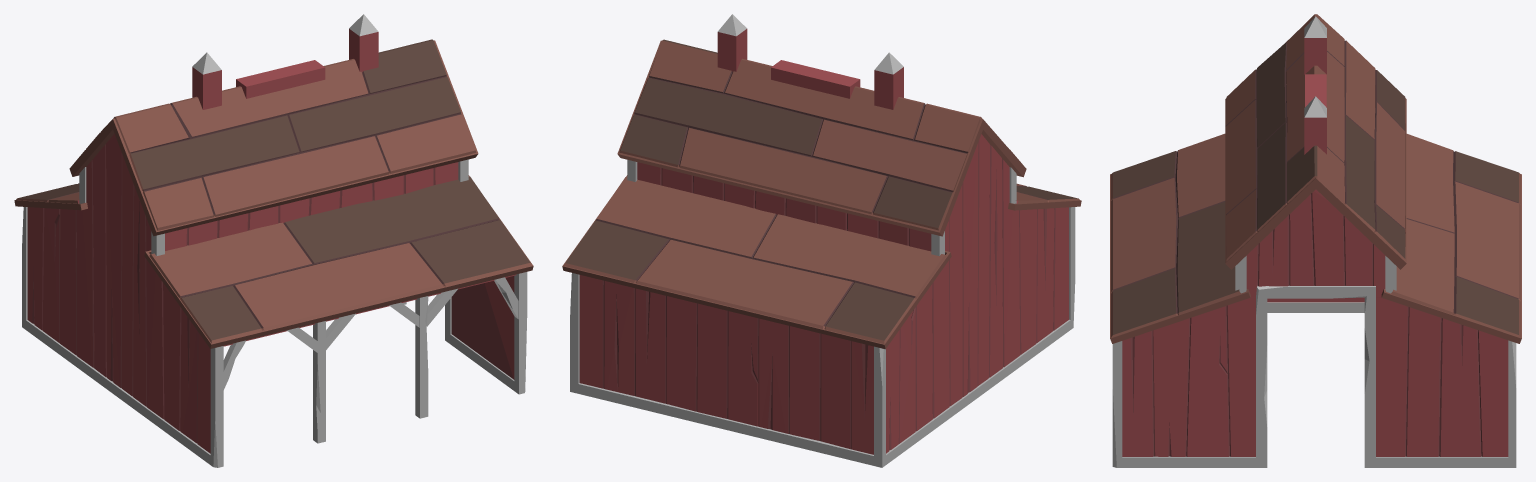
Rendered from Shed_3.fbx.
3 renders of one model, left to right at view 1: azimuth 30°, elevation 25°; view 2: azimuth 150°, elevation 25°; view 3: azimuth 270°, elevation 25°, orthographic. The views are drawn at different scales.
Visible parts, largest first — view 1: Shed_3; view 2: Shed_3; view 3: Shed_3.
Boxes of the visible parts, <box> form: Shed_3: <box>14,14,533,467</box>; Shed_3: <box>562,14,1081,467</box>; Shed_3: <box>1110,14,1521,467</box>.
Bounding box in the file's own units: 247 × 238 × 262.
